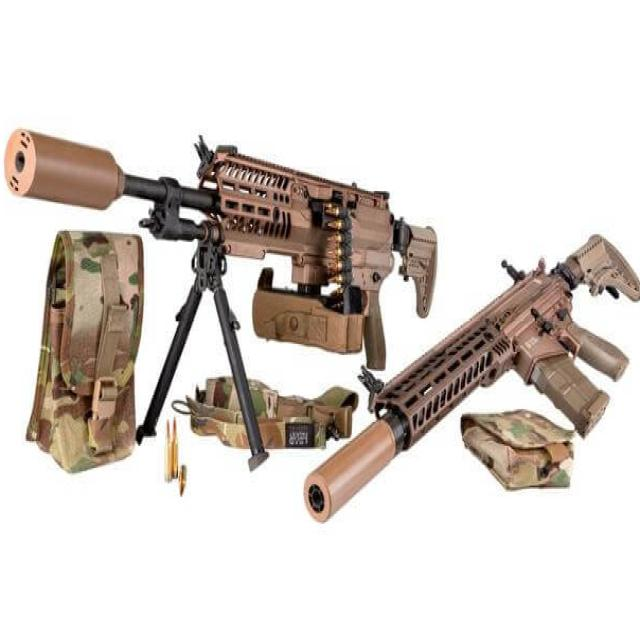Weapon: (6, 131, 437, 368), (306, 236, 640, 519)
